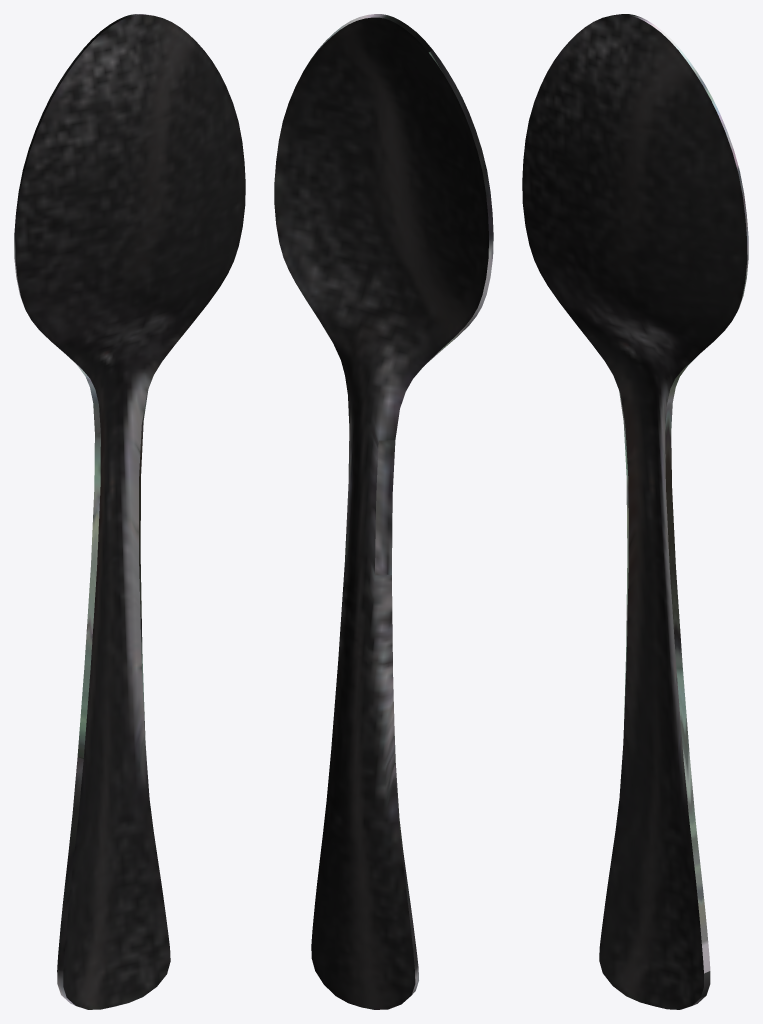
Rendered from spoon.obj.
3 views of the same model, side by side, from view 1: azimuth 30°, elevation 25°; view 2: azimuth 150°, elevation 25°; view 3: azimuth 330°, elevation 25° (orthographic). The views are drawn at different scales.
Parts seen in each view (by area): view 1: Plane; view 2: Plane; view 3: Plane.
Part boxes in pixels (x1=…): Plane: x1=14, y1=14, x2=245, y2=1009; Plane: x1=274, y1=14, x2=493, y2=1009; Plane: x1=522, y1=14, x2=748, y2=1009.
Size of the model in its own units: 0.9155 by 3.87 by 0.2783.
